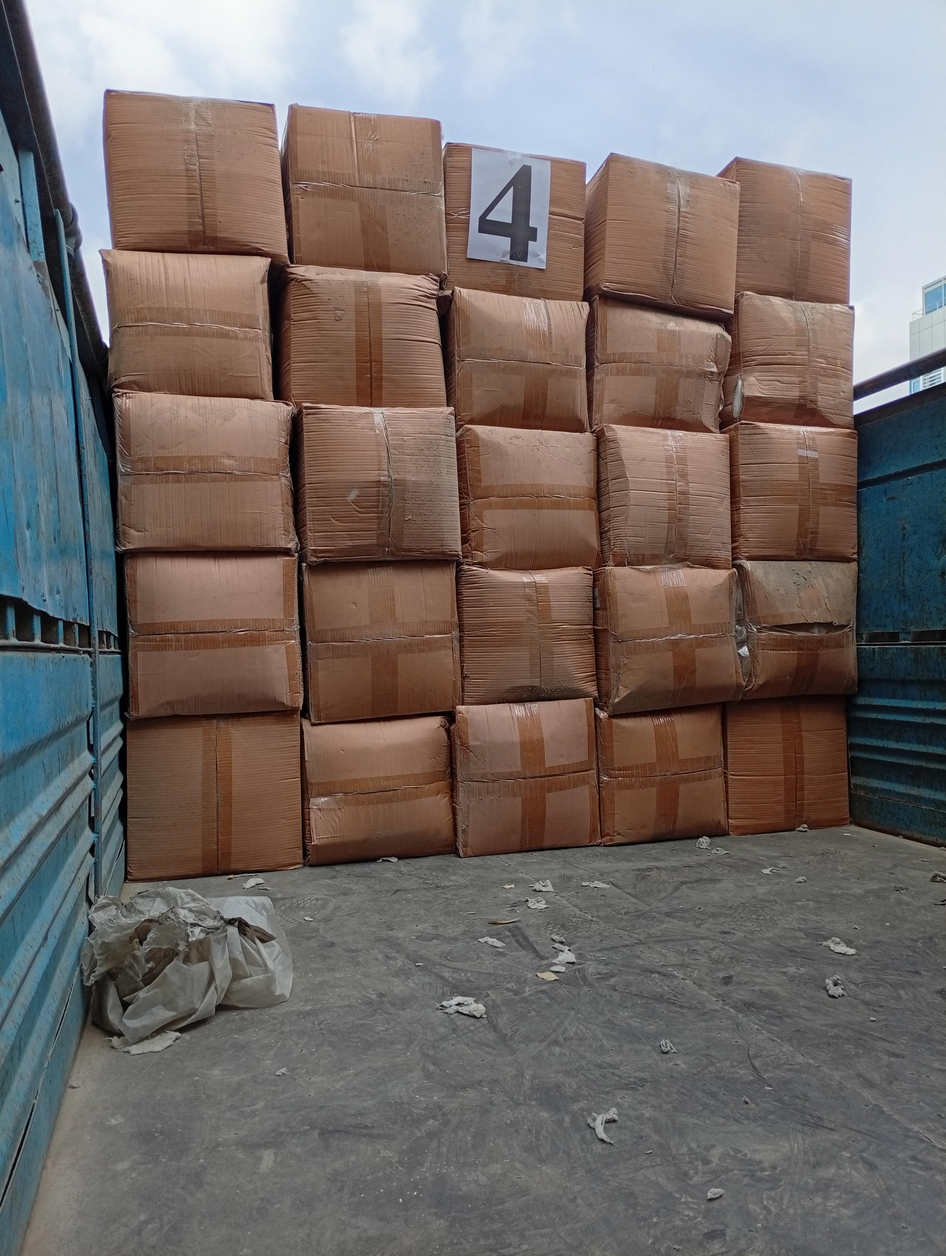carton: (103, 91, 287, 261), (122, 552, 301, 718), (113, 392, 296, 552), (127, 714, 303, 879), (281, 109, 448, 279), (290, 406, 460, 563), (584, 154, 739, 325), (300, 561, 461, 723), (102, 250, 273, 400), (272, 265, 446, 411), (449, 699, 600, 856), (301, 716, 454, 864), (593, 565, 742, 714), (443, 145, 585, 300), (441, 290, 588, 432), (456, 428, 600, 570), (455, 564, 596, 704), (585, 298, 730, 433), (596, 426, 731, 568), (724, 421, 858, 560), (596, 706, 727, 844), (722, 697, 850, 835), (732, 159, 852, 305), (734, 559, 858, 699), (729, 293, 855, 429)
